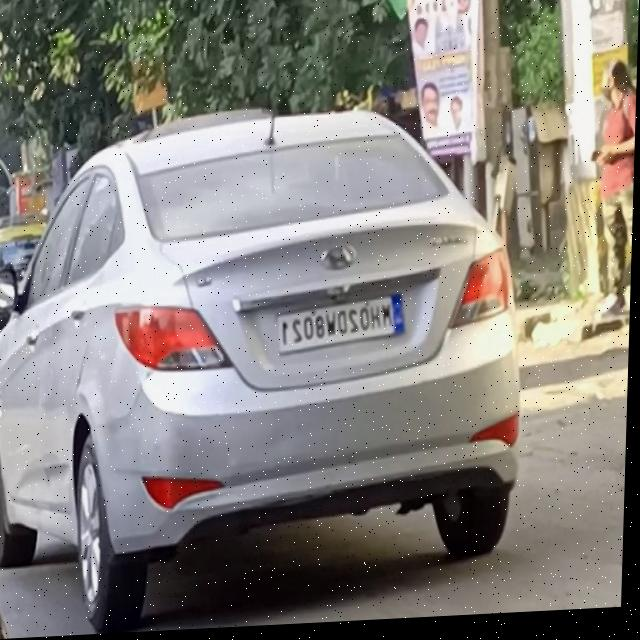plate: (279, 295, 409, 357)
